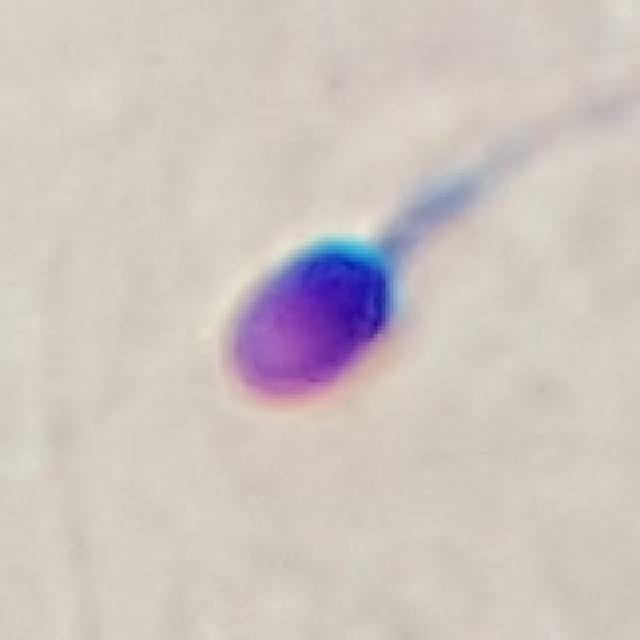normal sperm: (199, 99, 600, 425)
